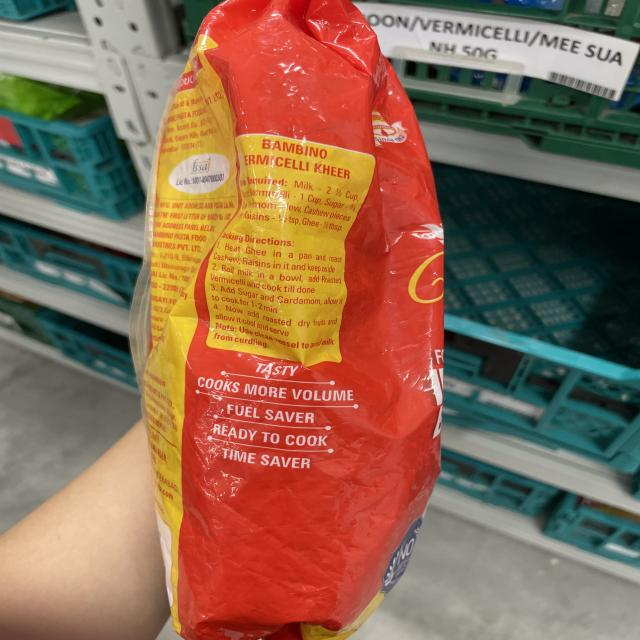object_name: (172, 29, 402, 624)
